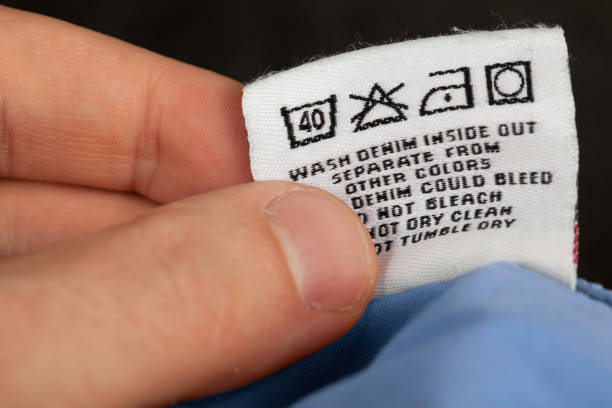ER_iron_low_temp: (414, 65, 477, 118)
ER_no_bleach: (346, 76, 413, 135)
ER_tumble_dry: (480, 56, 539, 112)
ER_wash_40: (276, 89, 341, 153)
